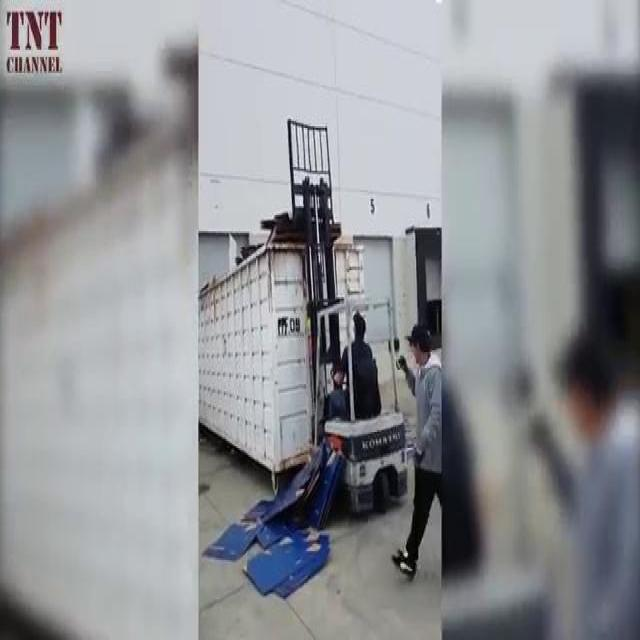forklift: (302, 286, 415, 523)
person: (388, 306, 448, 615), (324, 286, 399, 446)
